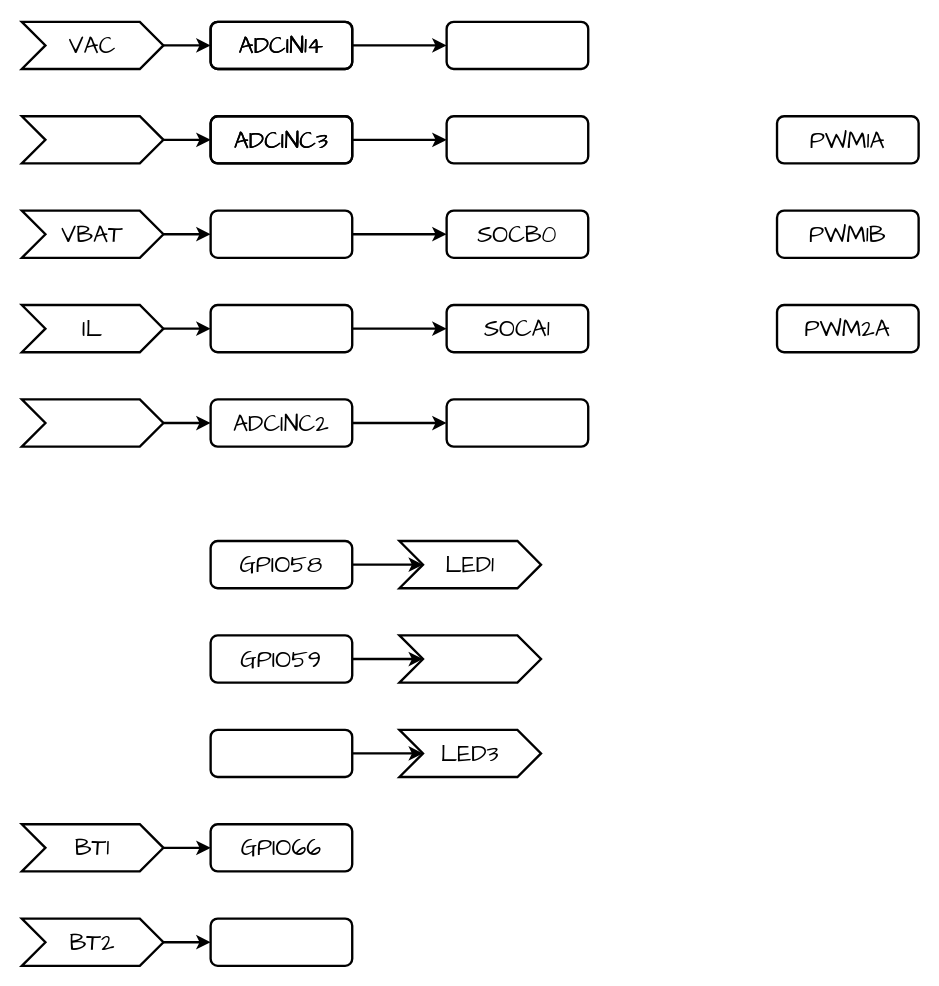
Some shapes in this 939 by 986 pixel diagram are drawn without their labels. The box of each missing label's shape, as (x1, y1, x2, y2) in pixels:
ADCINA3: (209, 303, 353, 353)
ADCINB3: (209, 209, 353, 258)
GPIO124: (209, 728, 353, 778)
GPIO131: (209, 917, 353, 966)
IBAT: (20, 398, 164, 447)
LED2: (398, 634, 542, 683)
SOCA0: (445, 20, 589, 70)
SOCC0: (445, 398, 589, 447)
SOCC1: (445, 114, 589, 164)
VPFC: (20, 114, 164, 164)
